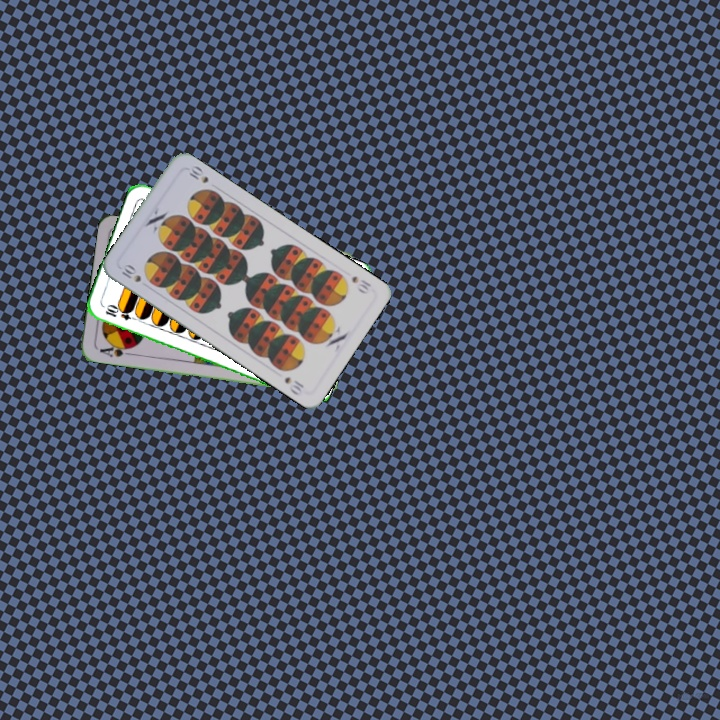E10: (101, 302, 141, 323)
S10: (117, 261, 144, 285), (348, 272, 374, 296)
SA: (96, 340, 136, 360)
